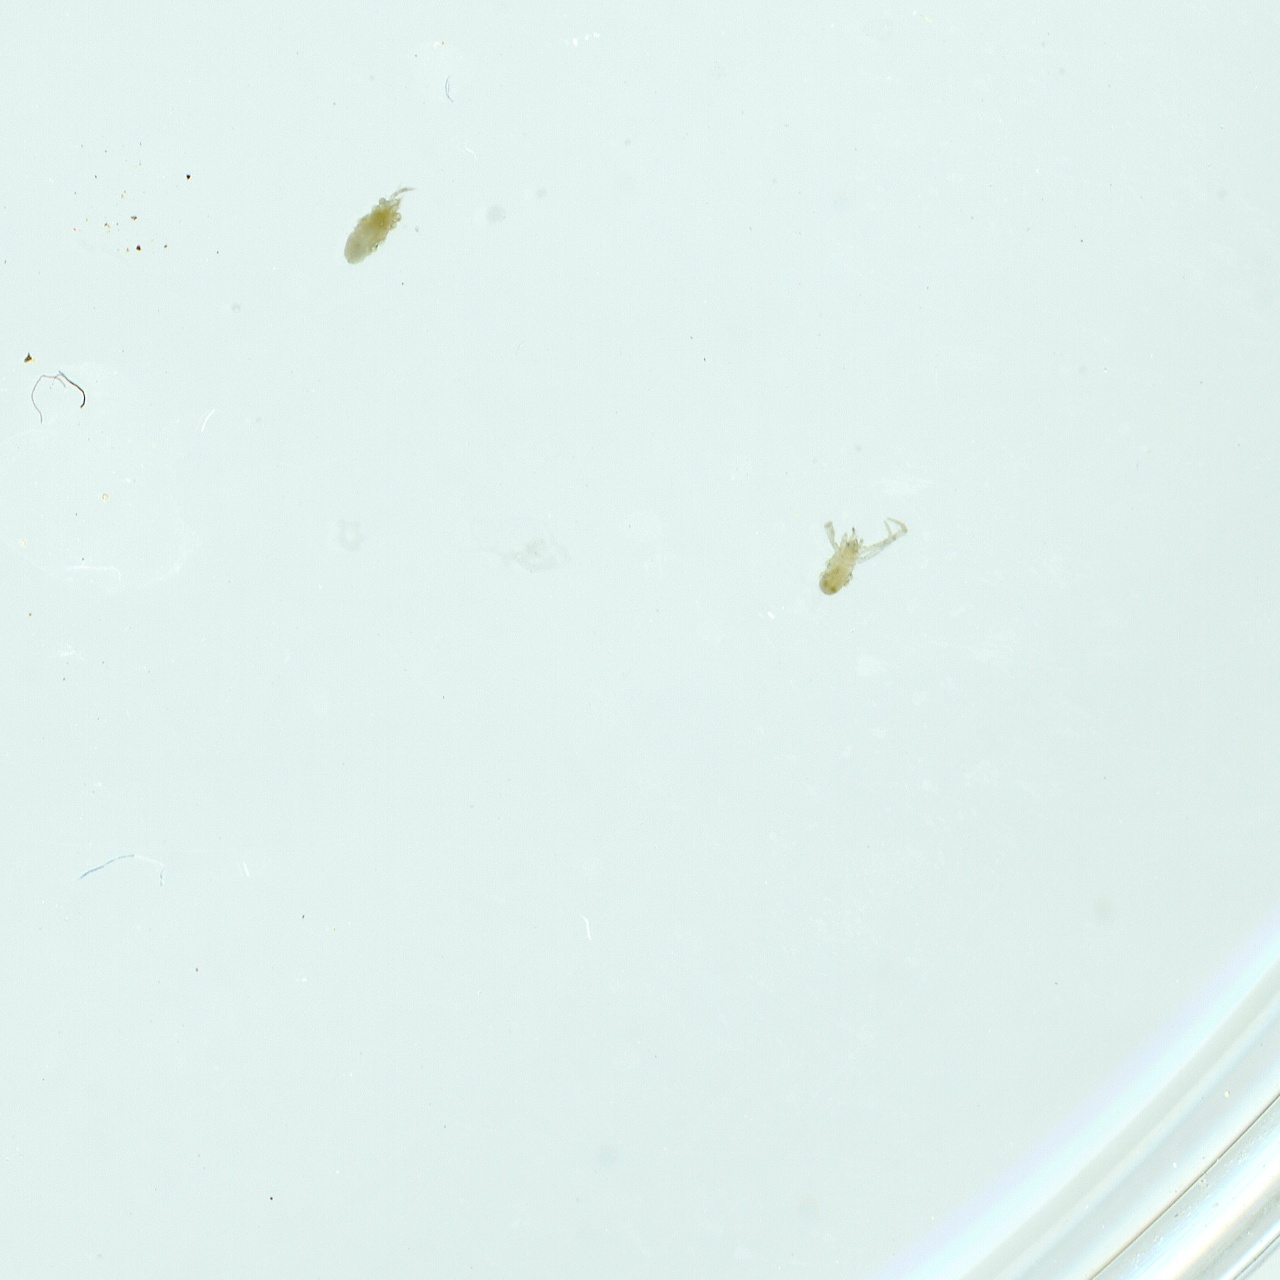arthropod: (798, 491, 915, 618), (328, 166, 434, 281)
